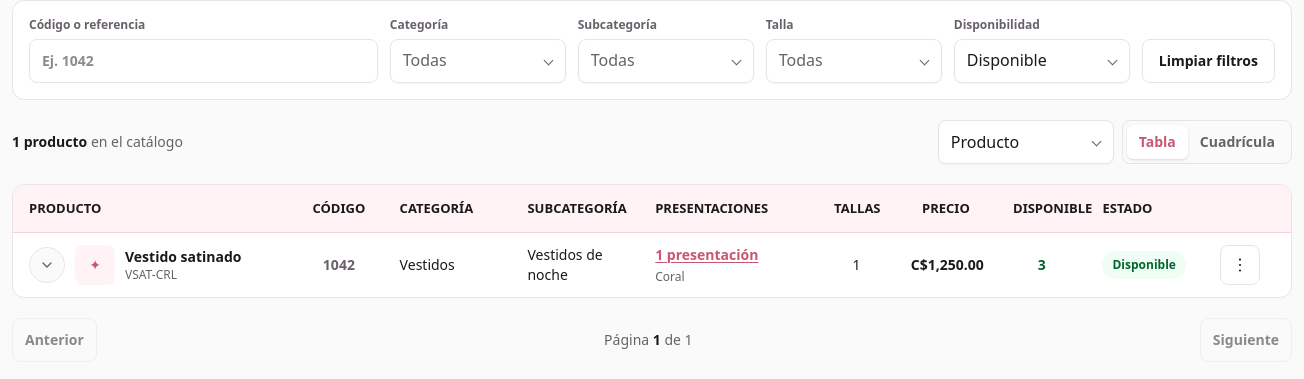
Scenario: ProductsPage › keeps the unfiltered availability option after choosing Todos
The width and height of the screenshot is (1304, 379).
Check: the text "Vestido satinado" is shown, box [125, 247, 242, 266]
Click the button with aria-label "Disponibilidad" at (1042,61), box [954, 39, 1130, 83]
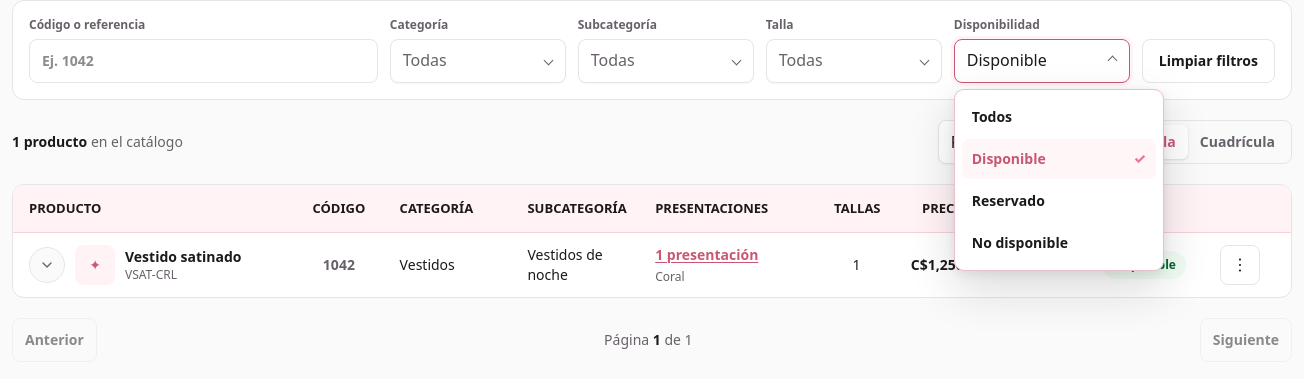
Click the option "Todos" at (1059,117), box [962, 97, 1156, 137]
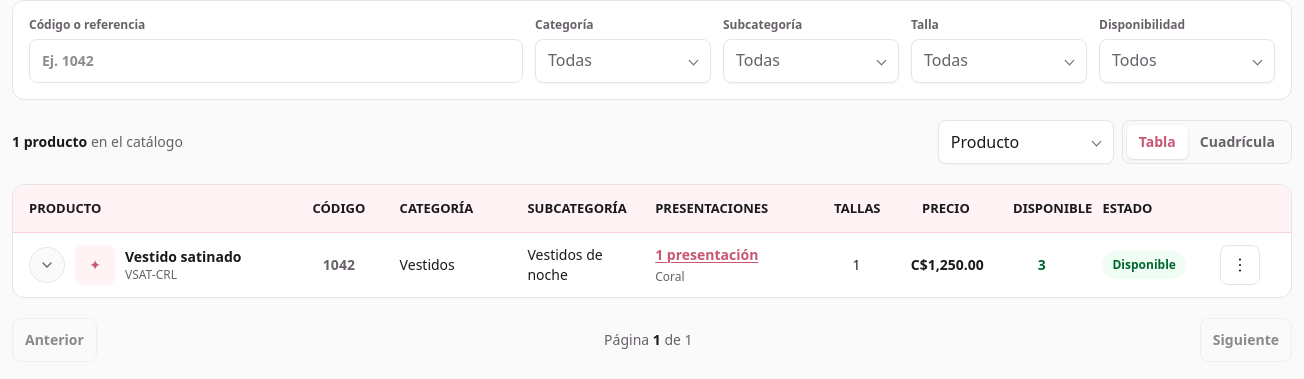
Check: the button with aria-label "Disponibilidad" reads "Todos", box [1099, 39, 1275, 83]
